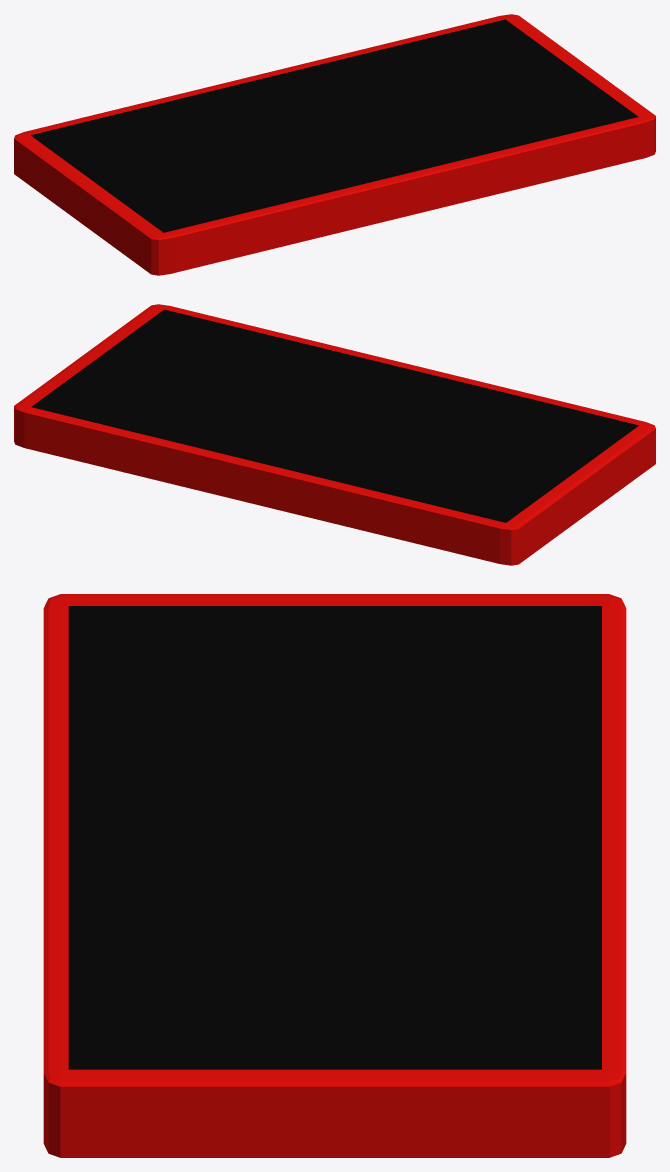
The model's file is Handphone.fbx.
3 views of the same model, one above another, from view 1: azimuth 30°, elevation 25°; view 2: azimuth 150°, elevation 25°; view 3: azimuth 270°, elevation 25° (orthographic). The views are drawn at different scales.
Visible parts, largest first — view 1: Cube; view 2: Cube; view 3: Cube.
Boxes of the visible parts, <box> form: Cube: <box>14,14,655,275</box>; Cube: <box>14,304,655,565</box>; Cube: <box>43,594,626,1157</box>.
Bounding box in the file's own units: 14 × 1 × 7.
